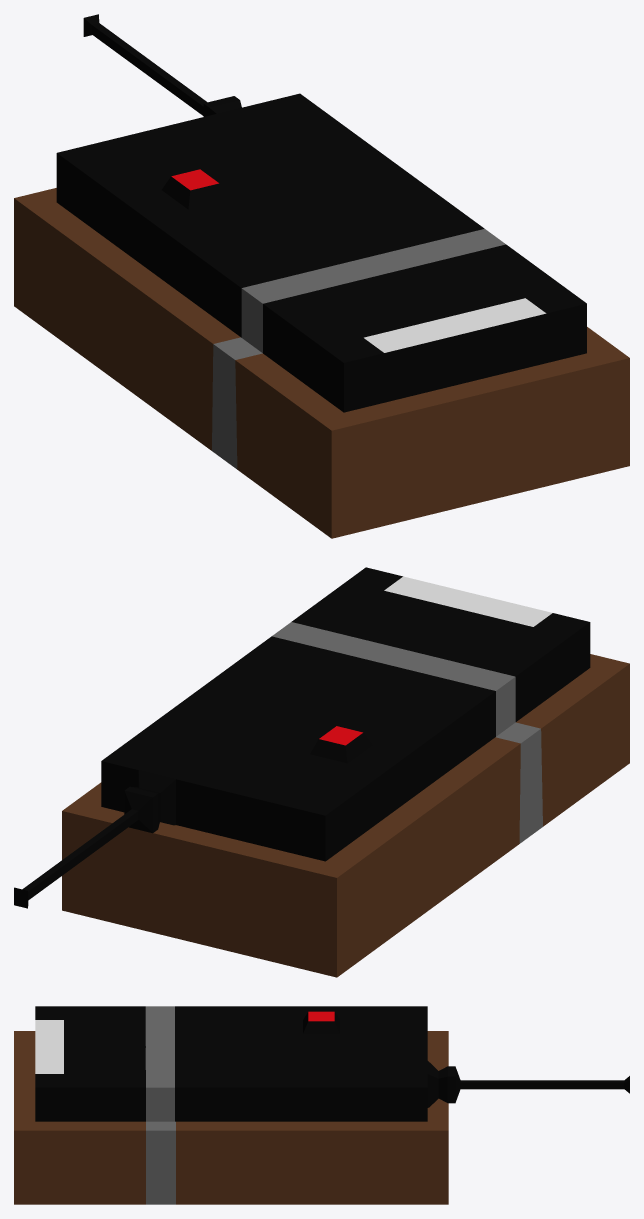
Rendered from sleepfour.fbx.
3 renders of one model, top to bottom at view 1: azimuth 30°, elevation 25°; view 2: azimuth 150°, elevation 25°; view 3: azimuth 270°, elevation 25°, orthographic. The views are drawn at different scales.
Visible parts, largest first — view 1: Cube; view 2: Cube; view 3: Cube.
Part boxes in pixels (bbox=[...]): Cube: bbox=[14, 14, 629, 538]; Cube: bbox=[14, 567, 629, 977]; Cube: bbox=[14, 1006, 629, 1204].
Size of the model in its own units: 131 by 72.67 by 343.
